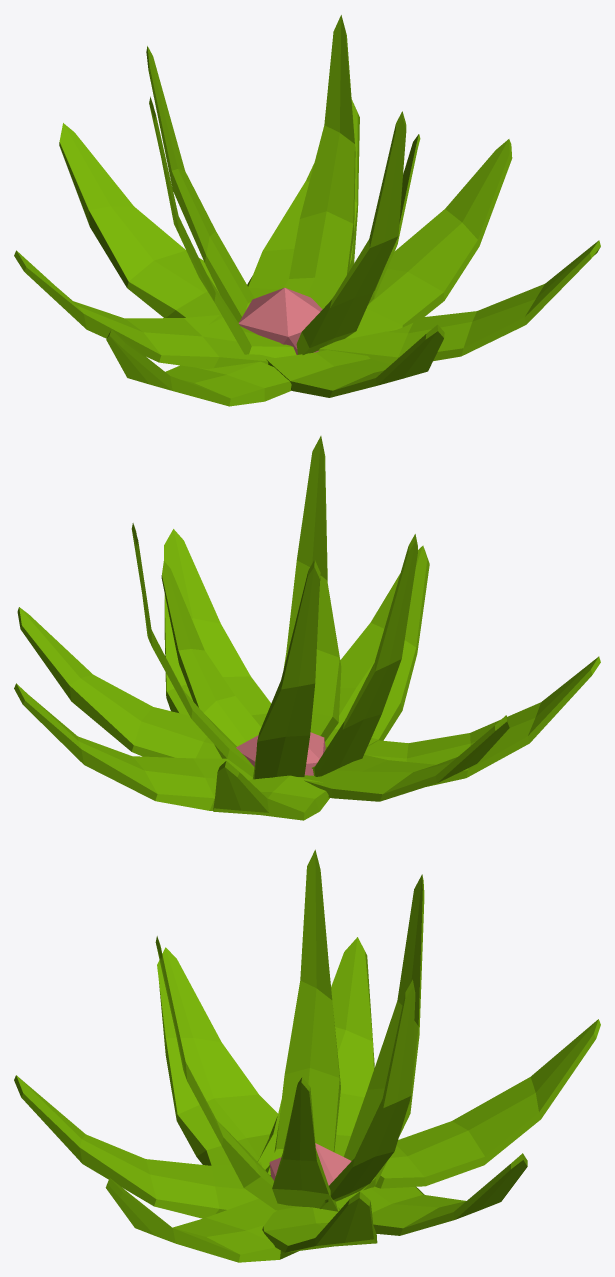
File: Bush_Cactus_2.fbx
The picture shows the model from 3 angles, top to bottom: view 1: azimuth 30°, elevation 25°; view 2: azimuth 150°, elevation 25°; view 3: azimuth 270°, elevation 25°; orthographic projection. The views are drawn at different scales.
Parts seen in each view (by area): view 1: Bush Cactus 2; view 2: Bush Cactus 2; view 3: Bush Cactus 2.
Boxes of the visible parts, x1,y1,x2,y2 form: Bush Cactus 2: (14, 15, 600, 406); Bush Cactus 2: (14, 436, 600, 820); Bush Cactus 2: (14, 849, 600, 1262).
Bounding box in the file's own units: 752 × 430 × 758.
